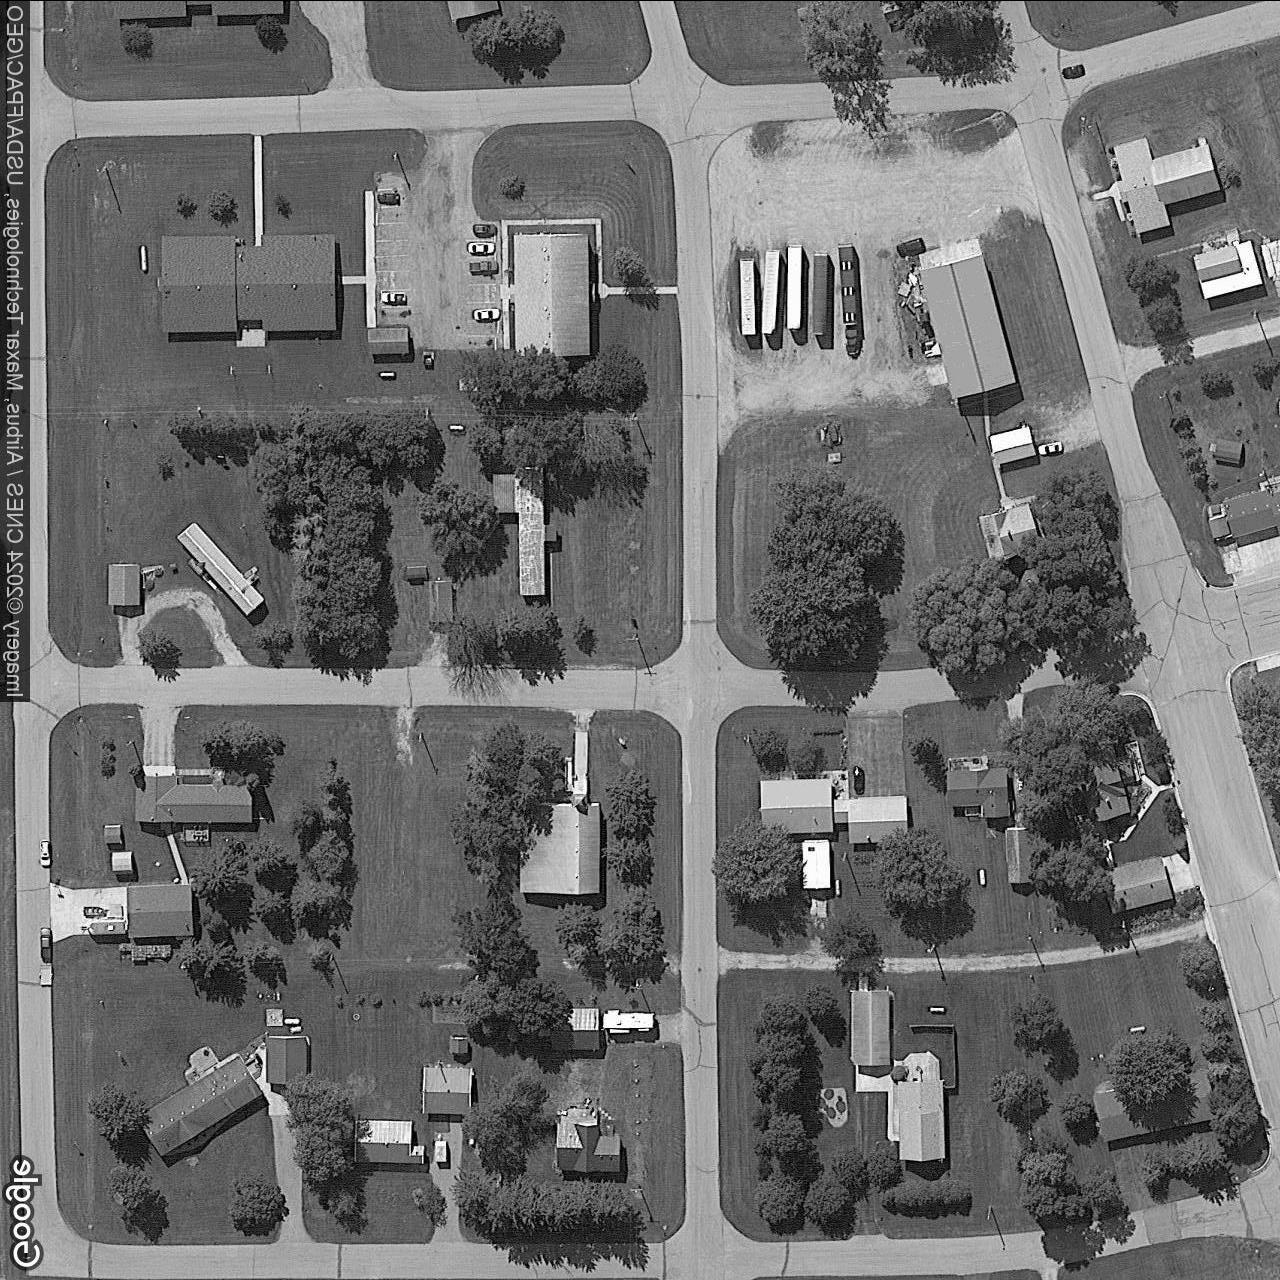Garage: (1101, 856, 1175, 913), (128, 883, 193, 938), (851, 989, 888, 1064), (422, 1065, 474, 1114), (266, 1036, 309, 1083), (551, 1008, 599, 1048), (990, 425, 1034, 464), (803, 838, 831, 888), (1007, 826, 1032, 883), (107, 563, 139, 605), (428, 580, 452, 622)
House: (137, 1054, 263, 1157), (1112, 137, 1220, 232), (760, 778, 907, 843), (1092, 1069, 1220, 1142), (491, 467, 557, 594), (519, 791, 599, 892), (134, 774, 253, 821), (1205, 485, 1280, 540), (1193, 240, 1264, 299), (1081, 745, 1135, 821), (898, 1080, 946, 1159), (979, 502, 1040, 561), (556, 1122, 620, 1172), (113, 0, 284, 19), (946, 768, 1010, 817), (355, 1118, 424, 1163), (447, 0, 499, 20), (1260, 237, 1280, 279)
Other: (162, 233, 335, 332), (918, 253, 1015, 397), (513, 233, 591, 354)
Propane: (139, 245, 149, 272), (377, 370, 396, 380), (978, 867, 987, 886), (928, 1005, 947, 1014), (1128, 1024, 1146, 1034), (448, 422, 465, 430), (282, 1016, 301, 1023), (835, 878, 840, 896)
Trailer: (176, 522, 264, 613)
